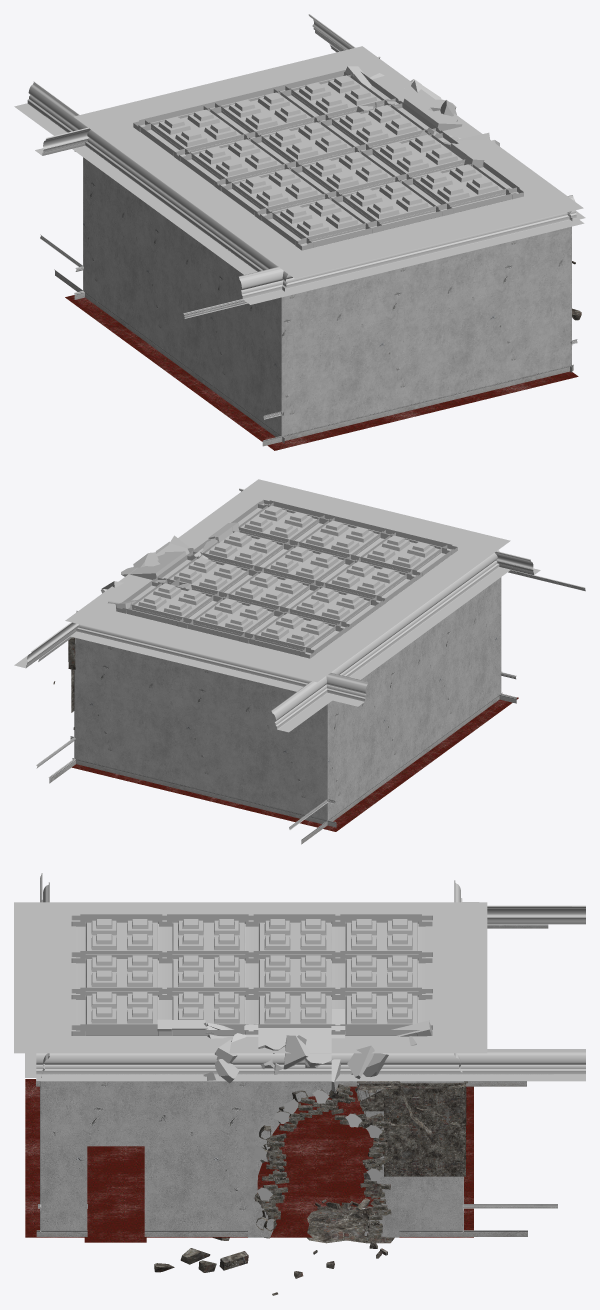
Rendered from Hotelroom.fbx.
3 renders of one model, top to bottom at view 1: azimuth 30°, elevation 25°; view 2: azimuth 150°, elevation 25°; view 3: azimuth 270°, elevation 25°, orthographic. The views are drawn at different scales.
Parts seen in each view (by area): view 1: LODGroup_1_MainMesh_1_SubMesh_3, LODGroup_1_MainMesh_1_SubMesh_4, LODGroup_1_MainMesh_1_SubMesh_6, LODGroup_1_MainMesh_1_SubMesh_8, LODGroup_1_MainMesh_1_SubMesh_1, LODGroup_1_MainMesh_1_SubMesh_7; view 2: LODGroup_1_MainMesh_1_SubMesh_3, LODGroup_1_MainMesh_1_SubMesh_4, LODGroup_1_MainMesh_1_SubMesh_6, LODGroup_1_MainMesh_1_SubMesh_8, LODGroup_1_MainMesh_1_SubMesh_7, LODGroup_1_MainMesh_1_SubMesh_1, LODGroup_1_MainMesh_1_SubMesh_5; view 3: LODGroup_1_MainMesh_1_SubMesh_4, LODGroup_1_MainMesh_1_SubMesh_3, LODGroup_1_MainMesh_1_SubMesh_6, LODGroup_1_MainMesh_1_SubMesh_1, LODGroup_1_MainMesh_1_SubMesh_2, LODGroup_1_MainMesh_1_SubMesh_8, LODGroup_1_MainMesh_1_SubMesh_7, LODGroup_1_MainMesh_1_SubMesh_5.
Part boxes in pixels (left/top/right/bottom): LODGroup_1_MainMesh_1_SubMesh_3: left=83, top=157, right=571, bottom=435; LODGroup_1_MainMesh_1_SubMesh_4: left=133, top=66, right=523, bottom=250; LODGroup_1_MainMesh_1_SubMesh_6: left=74, top=46, right=583, bottom=278; LODGroup_1_MainMesh_1_SubMesh_8: left=14, top=14, right=585, bottom=304; LODGroup_1_MainMesh_1_SubMesh_1: left=65, top=295, right=578, bottom=450; LODGroup_1_MainMesh_1_SubMesh_7: left=40, top=44, right=577, bottom=446; LODGroup_1_MainMesh_1_SubMesh_3: left=74, top=577, right=501, bottom=820; LODGroup_1_MainMesh_1_SubMesh_4: left=108, top=499, right=457, bottom=658; LODGroup_1_MainMesh_1_SubMesh_6: left=65, top=479, right=510, bottom=682; LODGroup_1_MainMesh_1_SubMesh_8: left=14, top=488, right=540, bottom=732; LODGroup_1_MainMesh_1_SubMesh_7: left=36, top=567, right=585, bottom=844; LODGroup_1_MainMesh_1_SubMesh_1: left=72, top=697, right=518, bottom=831; LODGroup_1_MainMesh_1_SubMesh_5: left=101, top=536, right=219, bottom=603; LODGroup_1_MainMesh_1_SubMesh_4: left=71, top=914, right=432, bottom=1081; LODGroup_1_MainMesh_1_SubMesh_3: left=40, top=1081, right=463, bottom=1237; LODGroup_1_MainMesh_1_SubMesh_6: left=14, top=902, right=487, bottom=1200; LODGroup_1_MainMesh_1_SubMesh_1: left=25, top=1079, right=473, bottom=1242; LODGroup_1_MainMesh_1_SubMesh_2: left=154, top=1081, right=467, bottom=1295; LODGroup_1_MainMesh_1_SubMesh_8: left=25, top=880, right=585, bottom=1081; LODGroup_1_MainMesh_1_SubMesh_7: left=36, top=873, right=557, bottom=1236; LODGroup_1_MainMesh_1_SubMesh_5: left=203, top=1022, right=416, bottom=1209.
Size of the model in its own units: 1581 by 594 by 1465.
